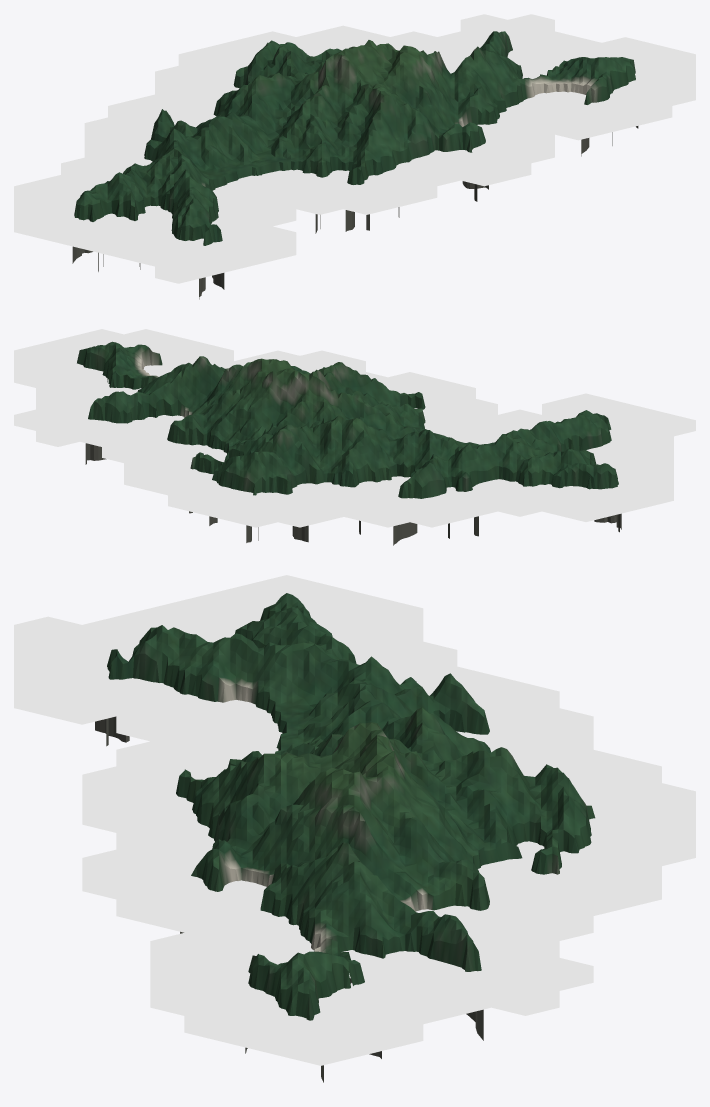
Rendered from landmark-ilha-grande-balanced.v1.glb.
The picture shows the model from 3 angles, top to bottom: view 1: azimuth 30°, elevation 25°; view 2: azimuth 150°, elevation 25°; view 3: azimuth 270°, elevation 25°; orthographic projection. The views are drawn at different scales.
Visible parts, largest first — view 1: surf, island; view 2: surf, island; view 3: surf, island.
Part boxes in pixels (x1,y1,x2,y2): surf: [14, 14, 695, 283]; island: [72, 31, 638, 299]; surf: [14, 329, 695, 527]; island: [77, 341, 621, 545]; surf: [14, 575, 695, 1065]; island: [95, 593, 595, 1082].
Size of the model in its own units: 47.2 by 7.89 by 27.71.
